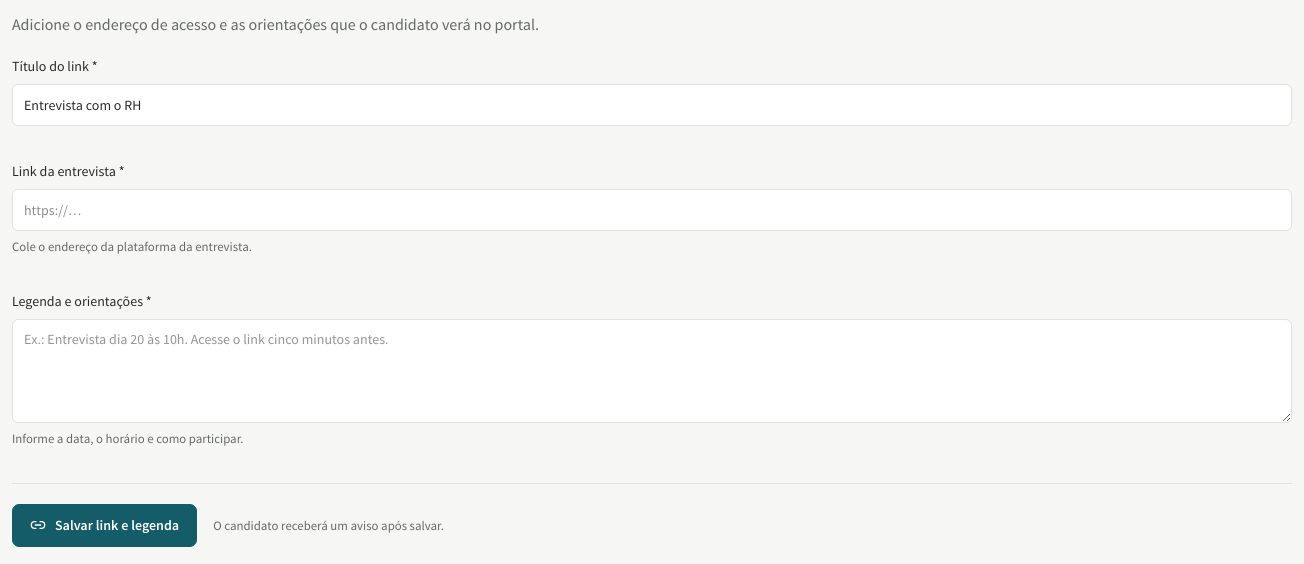
Test case: rejeita endereço inválido javascript:alert(1)
Step 1. Type "javascript:alert(1)" into the field labelled "Link da entrevista" → x=652, y=210, box top-left (12, 189), bottom-right (1292, 231)
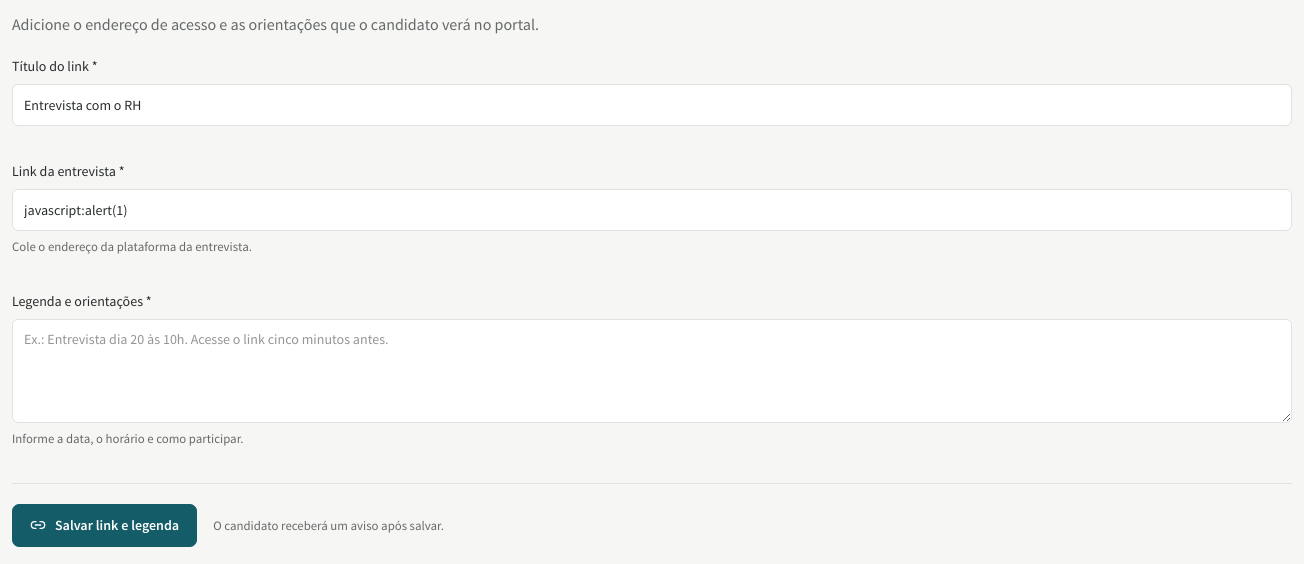
Step 2. Replace the text in the text box labelled "Legenda e orientações" with "Entrevista às 10h." → x=652, y=371, box top-left (12, 319), bottom-right (1292, 423)
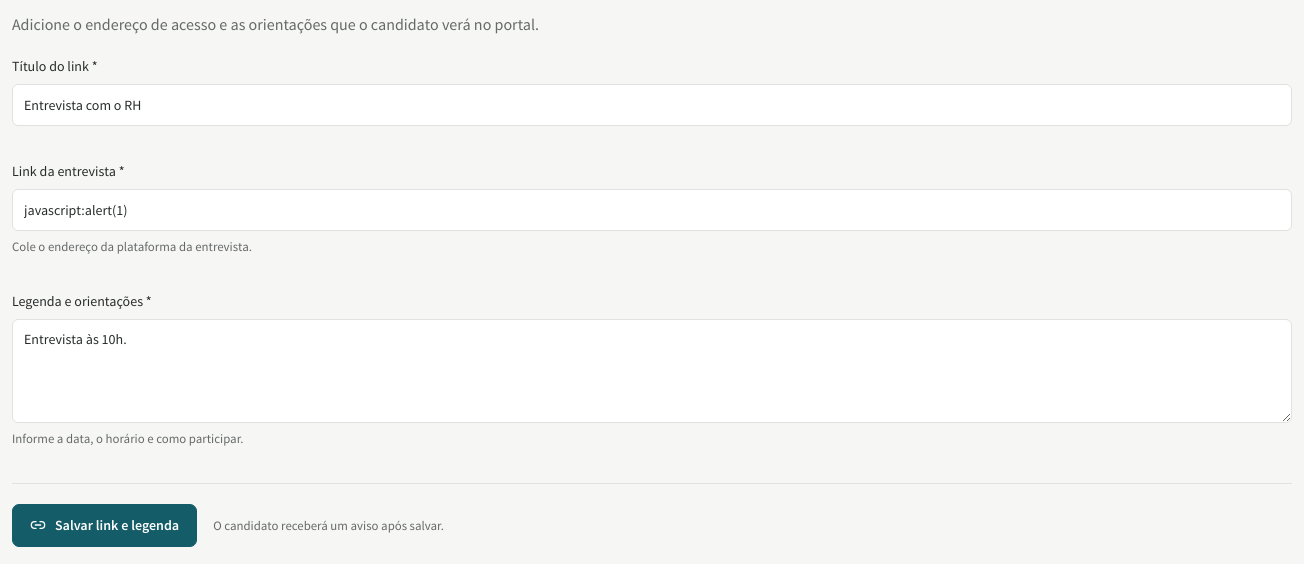
Step 3. Click the button "Salvar link e legenda" → x=105, y=525, box top-left (12, 504), bottom-right (197, 547)
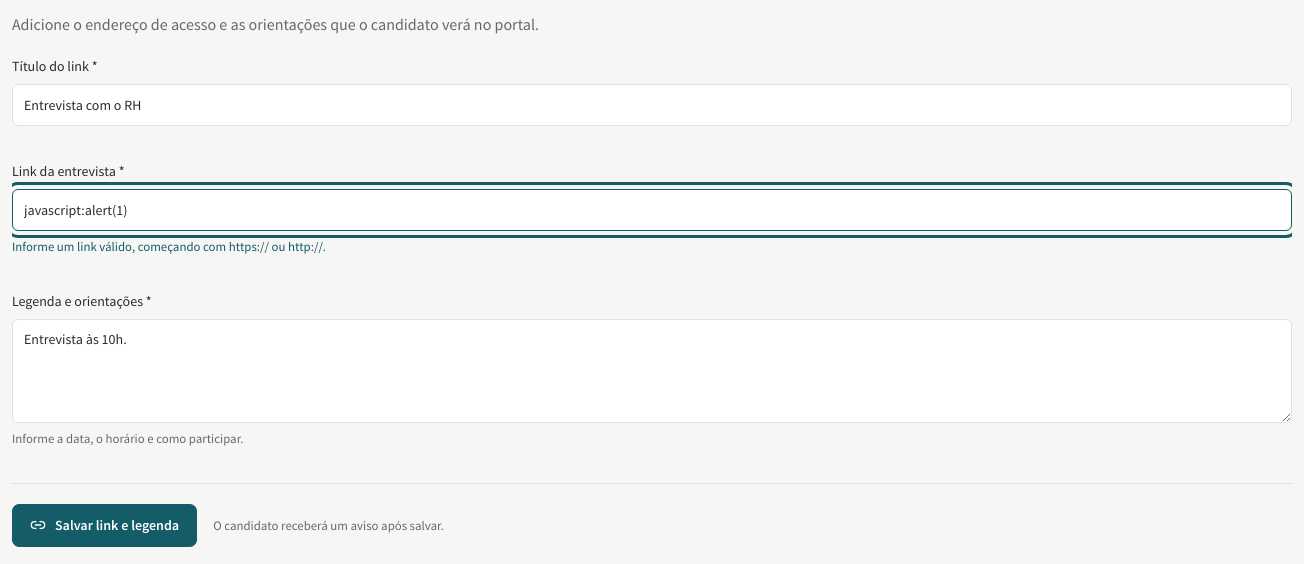
expect the text "Informe um link válido, começando com https:// ou http://." is shown: met, box top-left (12, 238), bottom-right (326, 254)
